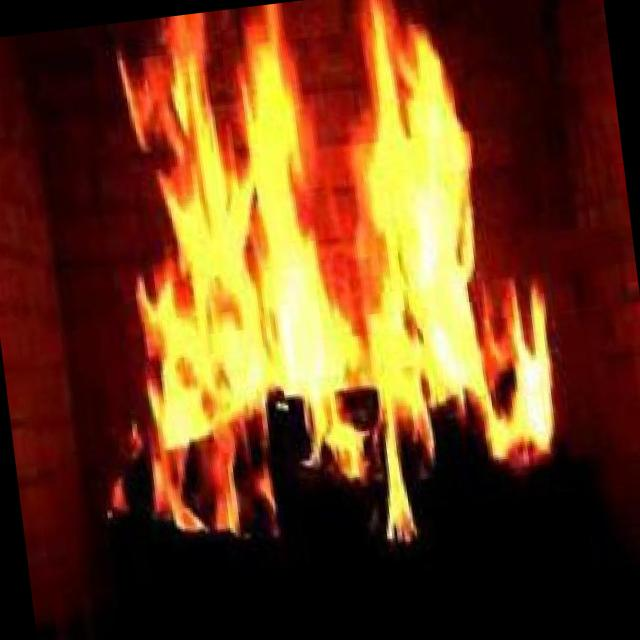Fire: (46, 0, 578, 590)
